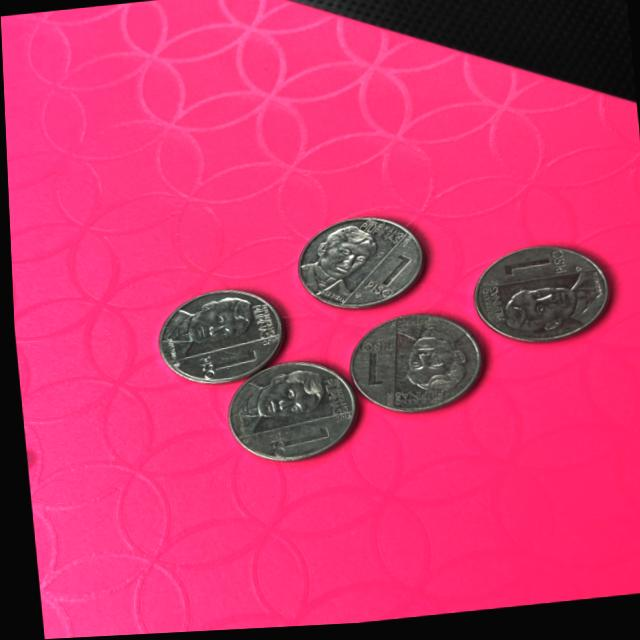1_New_Front: (258, 422, 327, 460), (351, 339, 392, 396), (497, 257, 568, 288), (360, 261, 409, 303), (193, 351, 251, 382), (245, 371, 255, 374)
